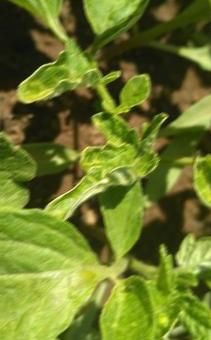Tomato leaf mosaic virus: (42, 112, 165, 221), (0, 210, 99, 340), (2, 53, 120, 111), (80, 164, 151, 258), (79, 0, 152, 59), (92, 274, 156, 340), (165, 293, 211, 340), (173, 233, 211, 284), (182, 154, 211, 215)
